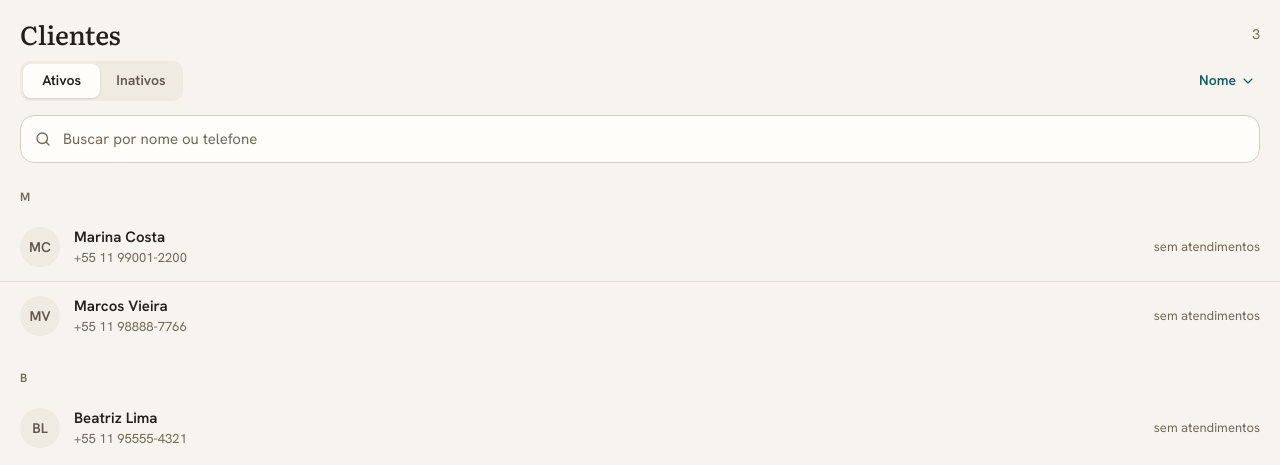
Test: CL3 — Clientes · busca › 'Cancelar' limpa a busca e devolve a lista com o título
Type "mar" into the search field at (640, 139), box [20,115,1260,163]
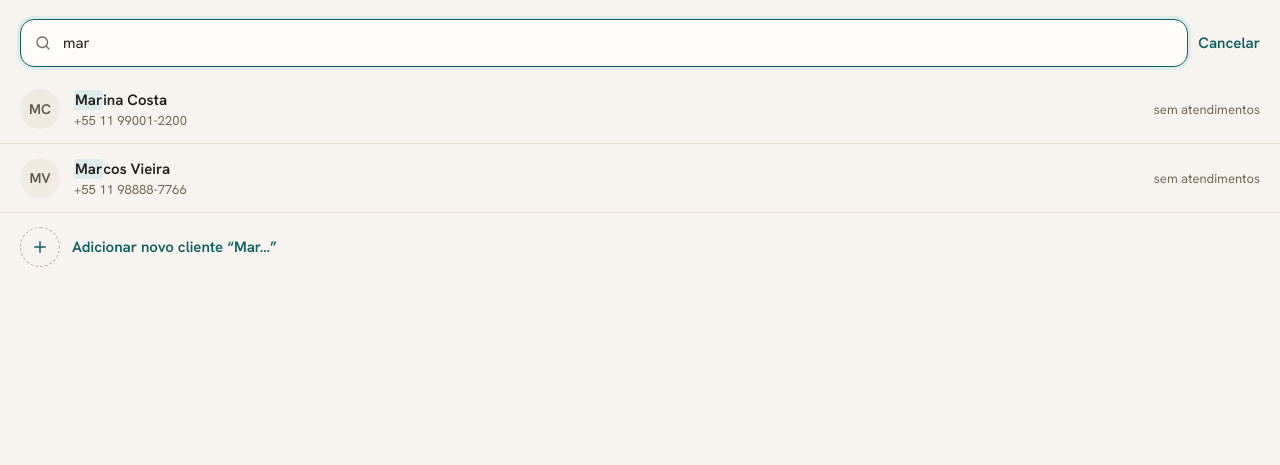
Expected: the heading "Clientes" is gone
Click the button "Cancelar" at (1229, 43), box [1198,21,1260,65]
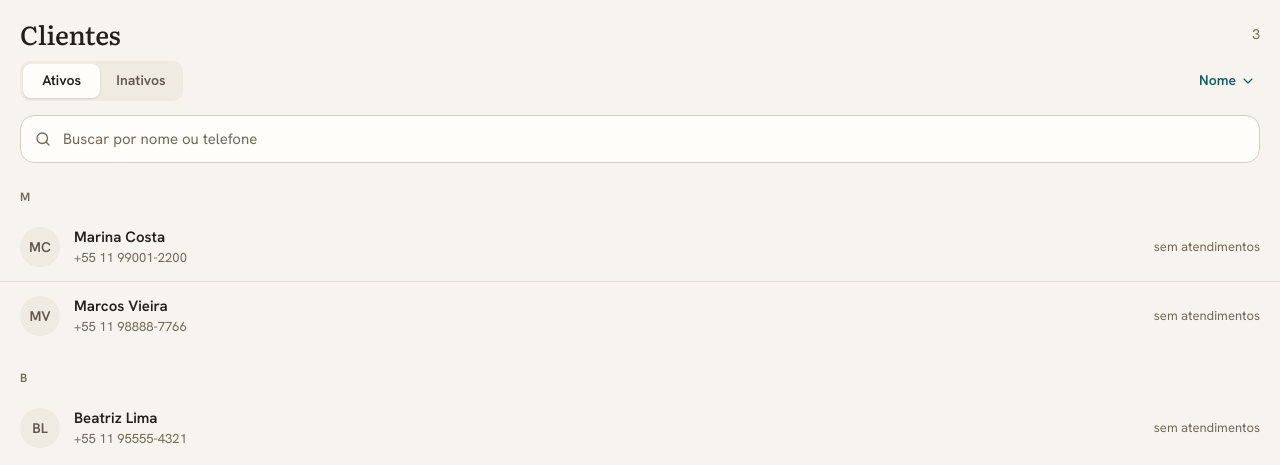
Expected: the search field is empty, [20,115,1260,163]
Expected: the heading "Clientes" is shown, [20,19,120,49]
Expected: the text "Beatriz Lima" is shown, [74,408,158,428]
